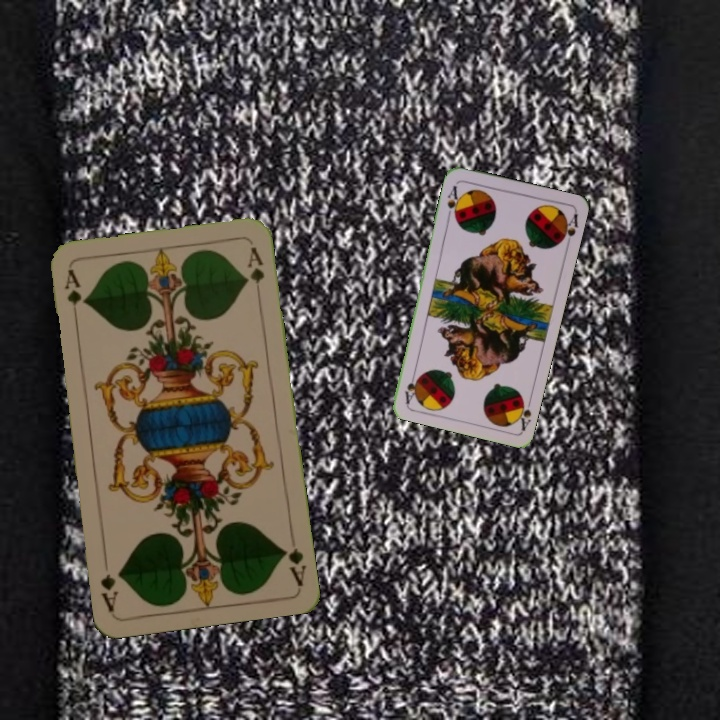GA: (60, 266, 84, 325), (278, 544, 308, 588)
SA: (511, 392, 534, 433), (443, 181, 463, 221)
